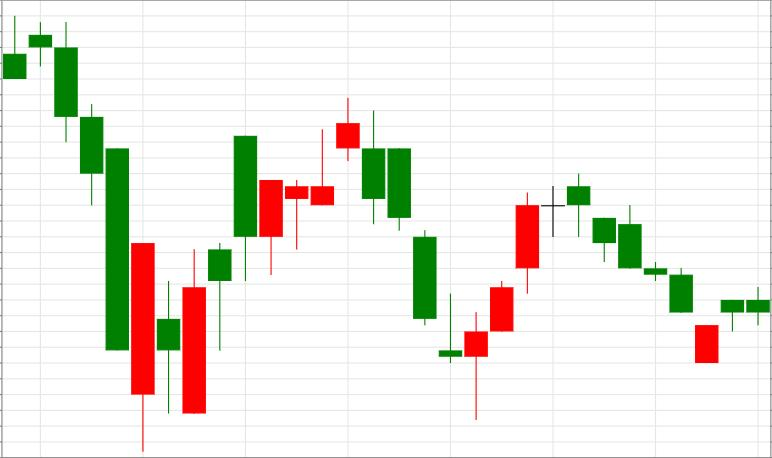bullish_engulfing_rise: (29, 21, 206, 452)
three_white_soldiers_rise: (362, 109, 539, 421)
